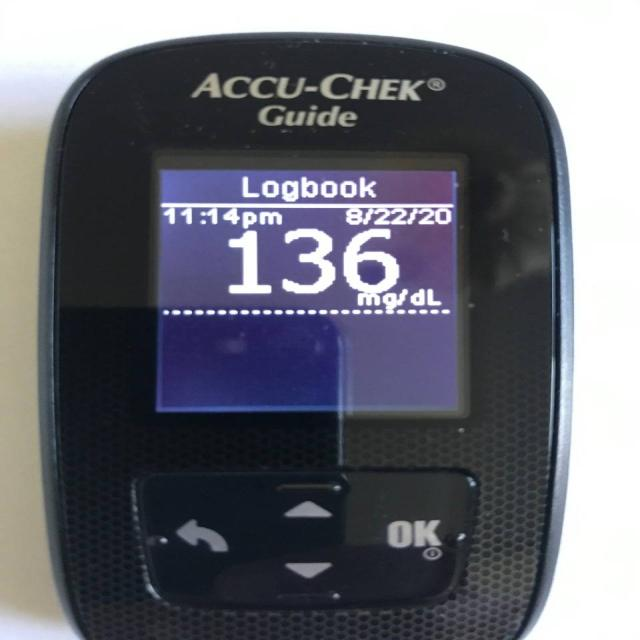gluco: (35, 32, 578, 640)
